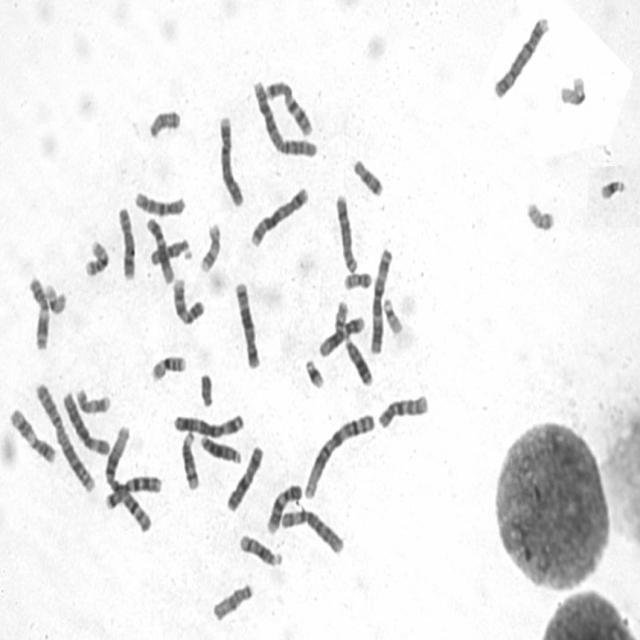A1: (300, 408, 377, 501), (101, 420, 154, 534)
A2: (32, 377, 97, 494), (250, 75, 319, 159)
A3: (367, 242, 394, 356), (170, 408, 246, 438)
B4: (490, 11, 550, 100), (215, 110, 245, 208)
B5: (247, 182, 310, 249), (230, 276, 262, 370)
C10: (374, 389, 430, 431), (130, 185, 186, 218)
C11: (5, 404, 57, 466), (25, 270, 50, 352)
C12: (142, 212, 175, 285), (316, 312, 366, 358)
C6: (59, 386, 111, 457), (278, 503, 345, 557)
C7: (261, 75, 314, 138), (102, 470, 164, 510)
C8: (332, 189, 359, 275), (114, 201, 137, 282)
C9: (263, 479, 303, 535), (169, 272, 206, 326)
D13: (342, 334, 374, 387), (197, 430, 242, 464)
D14: (236, 529, 283, 568), (178, 427, 201, 491)
D15: (209, 579, 254, 624), (146, 234, 192, 266)
E16: (147, 350, 188, 383), (81, 235, 110, 277)
E17: (196, 218, 222, 274), (72, 383, 112, 415)
E18: (349, 153, 385, 198), (144, 104, 182, 140)
F19: (556, 70, 588, 107), (41, 278, 68, 316)
F20: (522, 196, 556, 232), (341, 267, 373, 291)
G21: (596, 172, 628, 202), (302, 354, 326, 390)
G22: (379, 293, 404, 336), (331, 297, 349, 335)
X: (223, 441, 265, 514)
Y: (197, 368, 214, 408)
